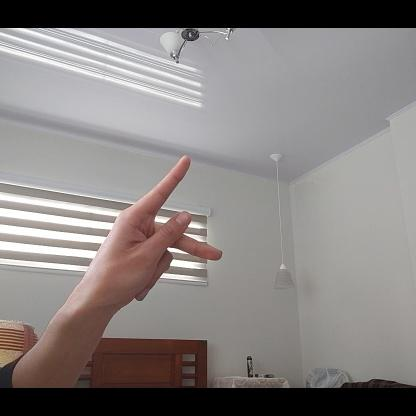K: (78, 155, 224, 312)
